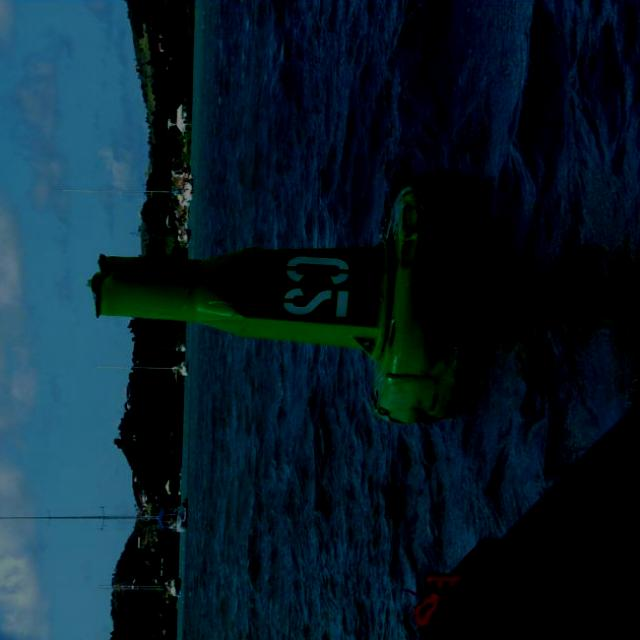ship: (0, 491, 189, 537), (51, 171, 201, 209), (96, 568, 186, 606), (87, 358, 190, 387), (134, 228, 192, 249), (142, 342, 189, 352)
